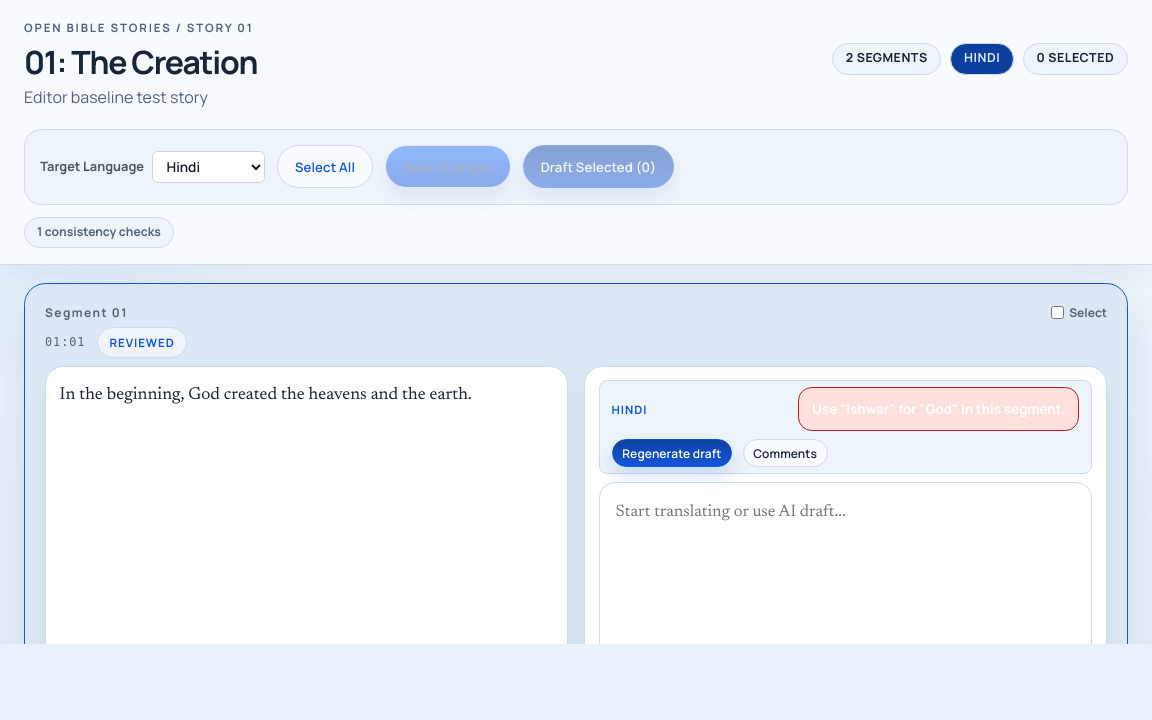
Test case: StoryEditorBaseline › tracks unsaved changes and shows save confirmation with actor
Type "नई अनुवादित पंक्ति" into the text box at coordinates (846, 583), box 599,482 -> 1092,684
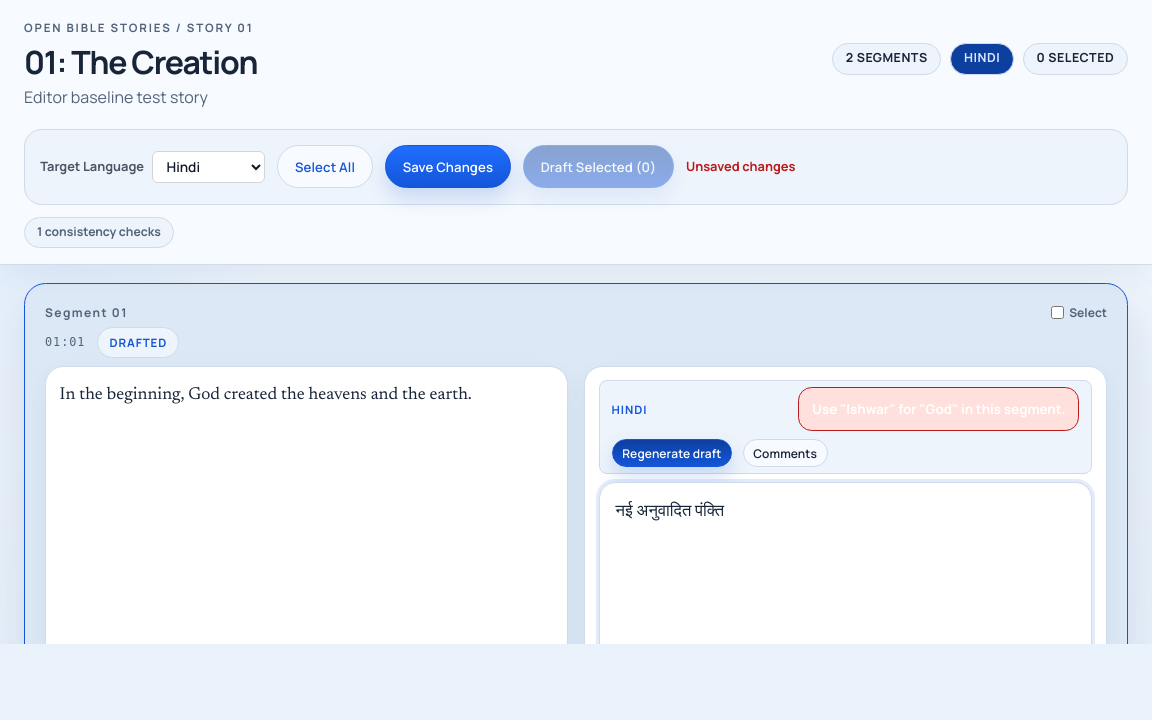
Now the text "Unsaved changes" is shown, box 686,157 -> 795,176
Click the button "Save Changes" at coordinates (448, 167), box 385,145 -> 511,188
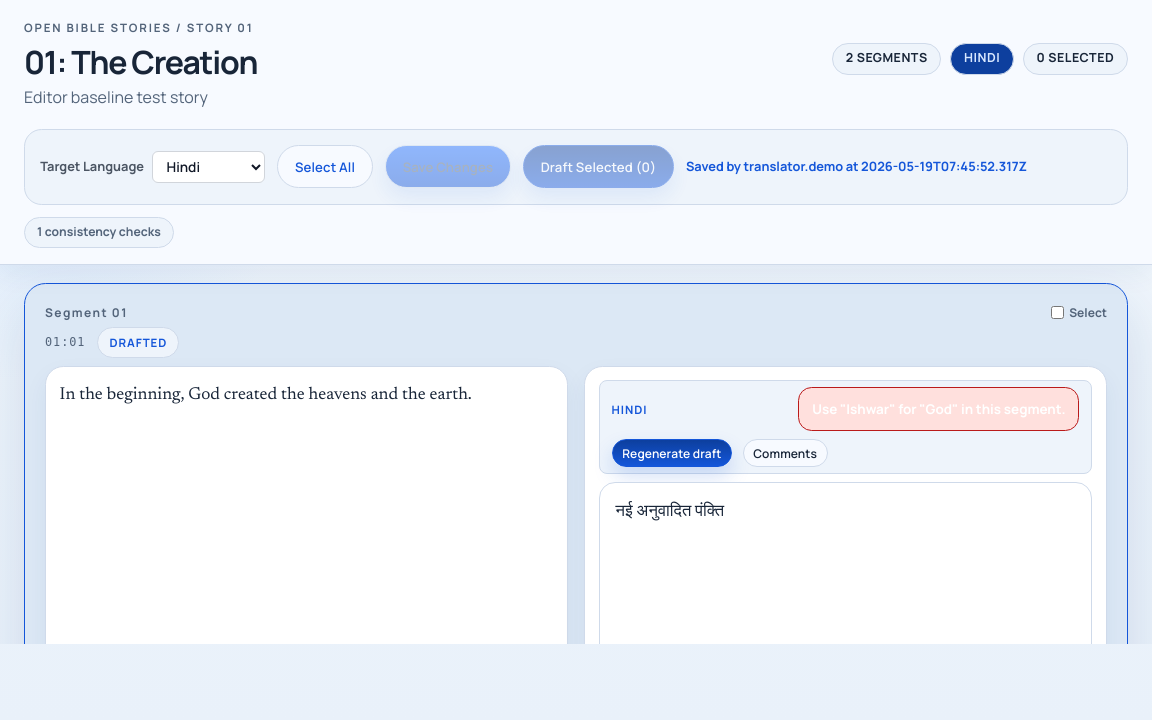
Now the text with test id "save-message" shows "Saved by translator.demo at", box 686,157 -> 1027,175
